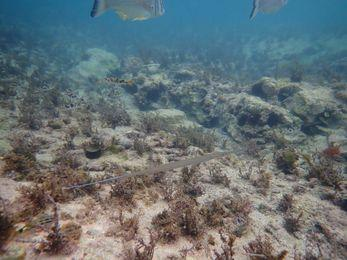Fistularia commersonii: (17, 149, 292, 190)
